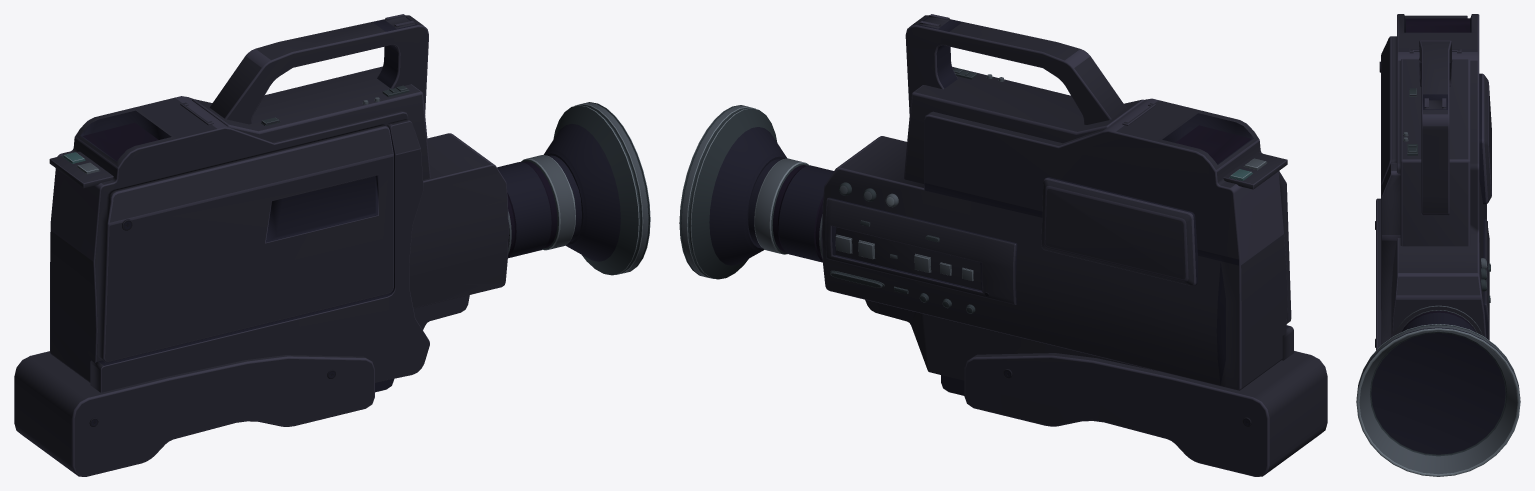
Rendered from VideoRegister.glb.
3 views of the same model, side by side, from view 1: azimuth 30°, elevation 25°; view 2: azimuth 150°, elevation 25°; view 3: azimuth 270°, elevation 25° (orthographic). The views are drawn at different scales.
Parts seen in each view (by area): view 1: Camera; view 2: Camera; view 3: Camera.
Part boxes in pixels (left/top/right/bottom): Camera: left=14, top=14, right=650, bottom=476; Camera: left=679, top=14, right=1327, bottom=476; Camera: left=1356, top=14, right=1520, bottom=476.
Size of the model in its own units: 20.29 by 11.99 by 5.43.
1 material, 1 textured.
